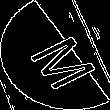M_NE: (14, 22, 96, 88)
